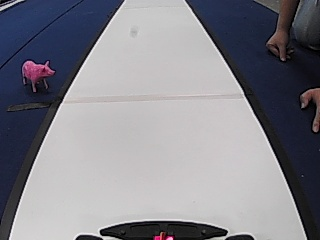pig: (18, 55, 57, 92)
